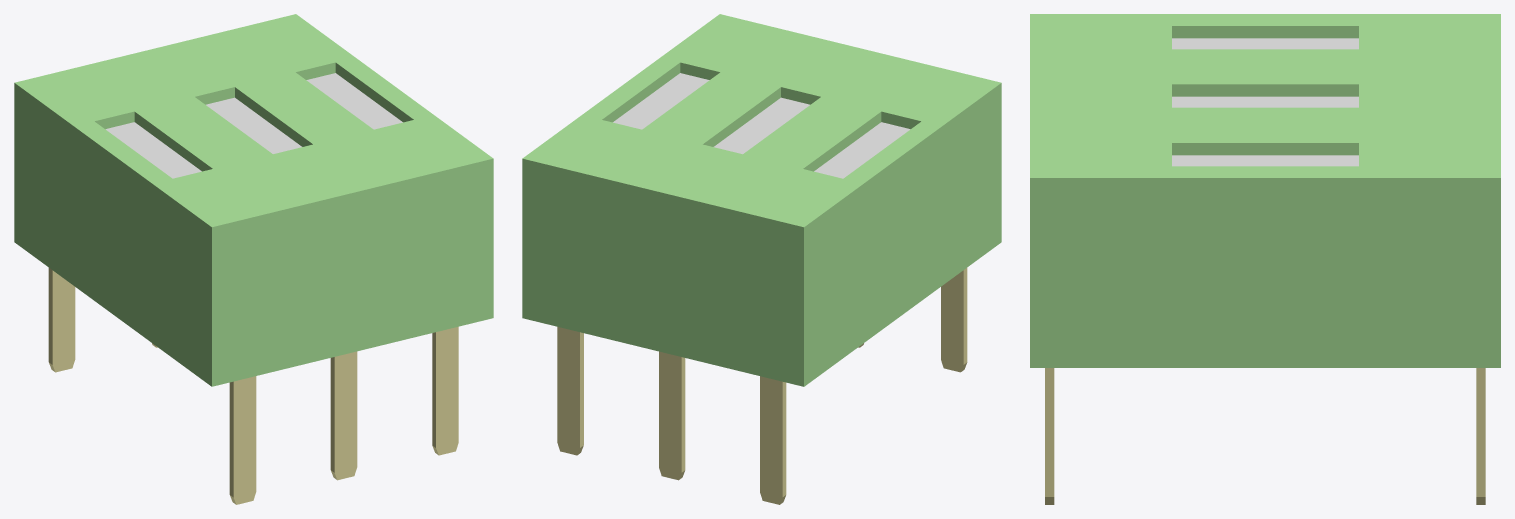
File: dip3.fbx
3 renders of one model, left to right at view 1: azimuth 30°, elevation 25°; view 2: azimuth 150°, elevation 25°; view 3: azimuth 270°, elevation 25°, orthographic. The views are drawn at different scales.
Parts seen in each view (by area): view 1: Cube.003; view 2: Cube.003; view 3: Cube.003.
Part boxes in pixels (bbox=[...]): Cube.003: bbox=[14, 14, 493, 504]; Cube.003: bbox=[522, 14, 1001, 504]; Cube.003: bbox=[1030, 14, 1500, 504].
Bounding box in the file's own units: 280 × 275 × 340.
